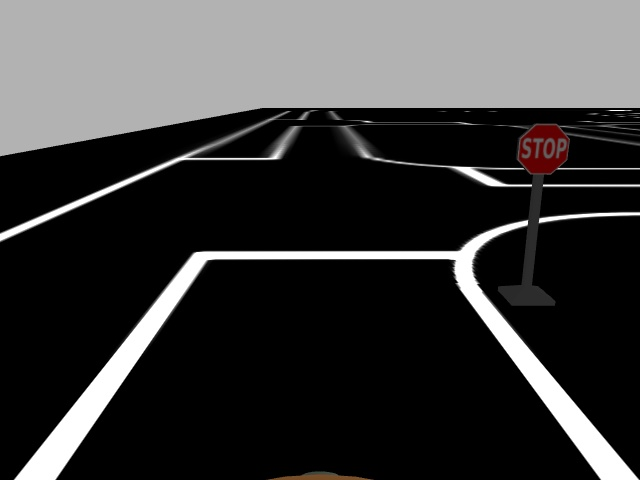stop: (515, 121, 573, 178)
